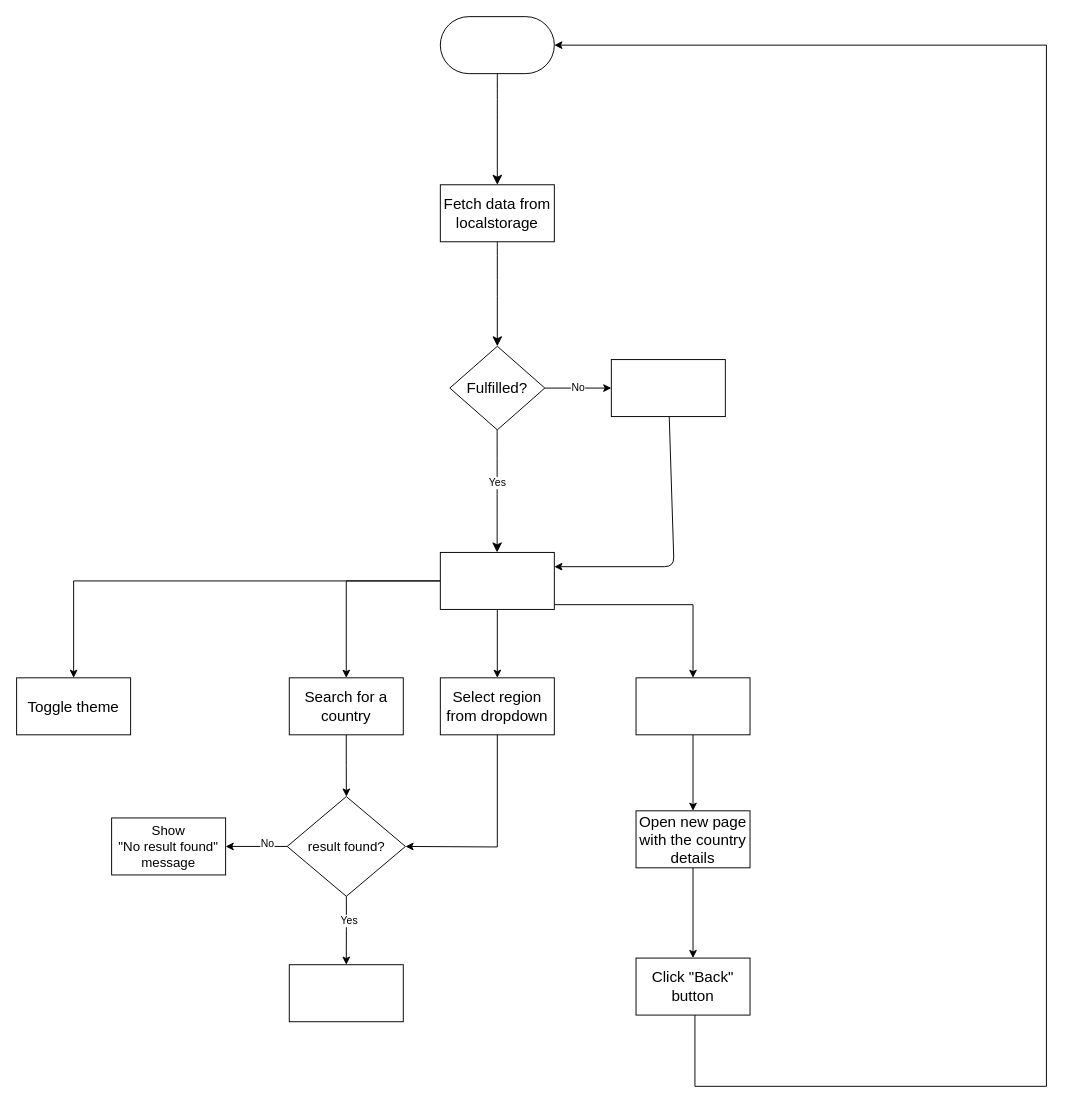
Image size: 1071x1111. Some labels were removed from this diagram. The centre of each missing label's shape, as x and y in pixels:
Choose a country from the list: the point at 692,706
Fetch data from API and save it to localstorage: the point at 667,388
Render countries list: the point at 496,580
Render results list: the point at 345,993
Start: the point at 496,45
